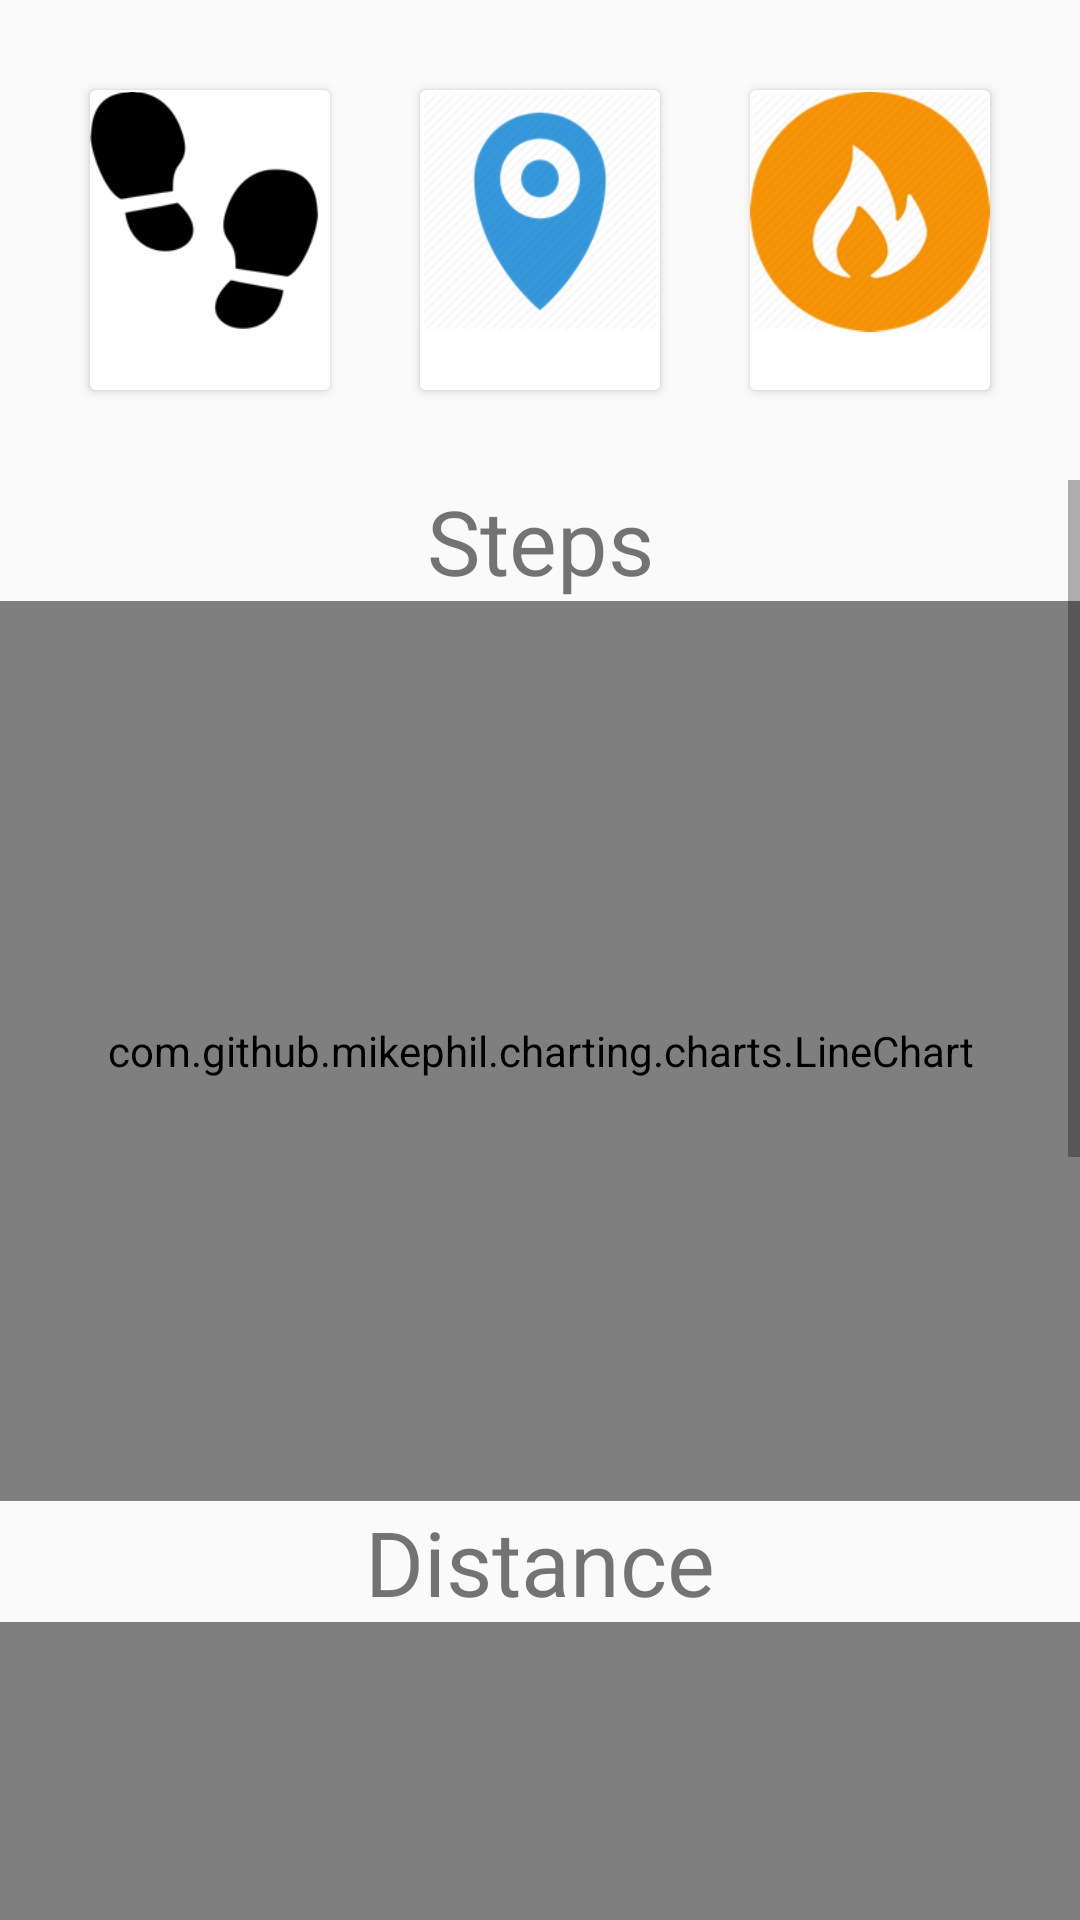

Point at icon controls on the screen. Image size 1080x1920, points as [x,y].
calories: [870,211]
distance: [540,200]
